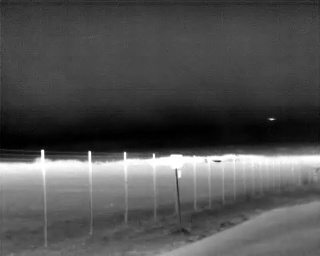AIRPLANE: (267, 115, 276, 123)
